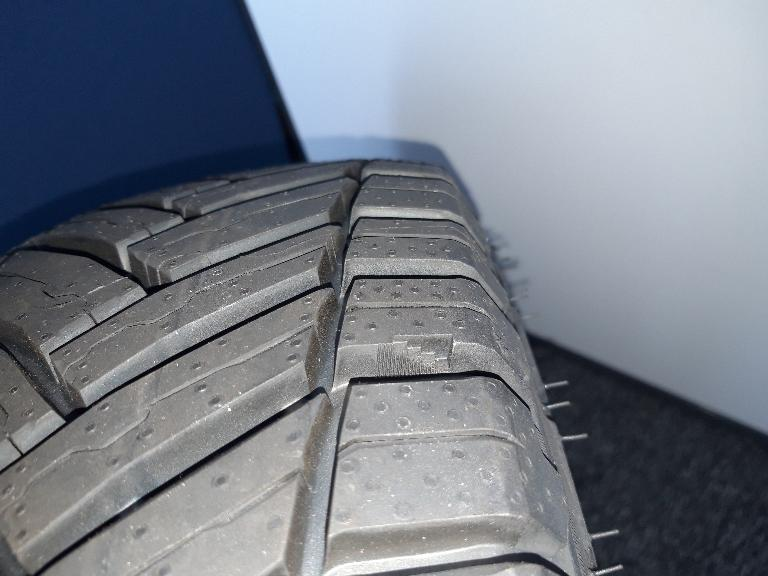temoin:100: (374, 332, 457, 380)
